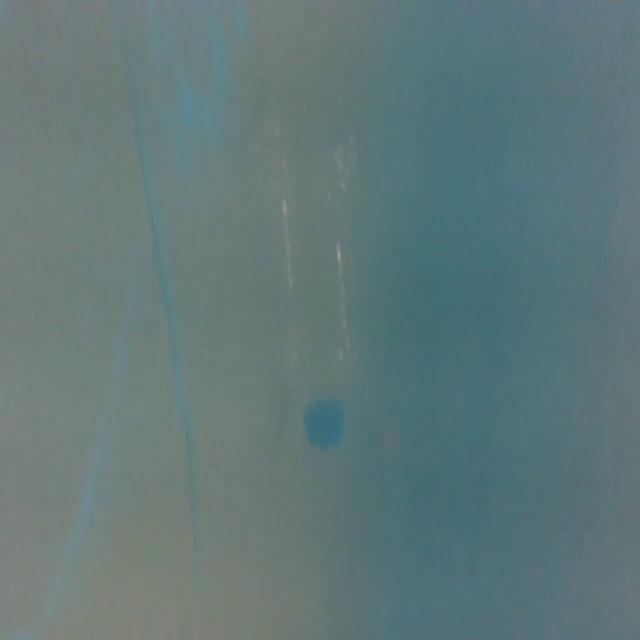plastic bottle: (256, 118, 377, 462)
